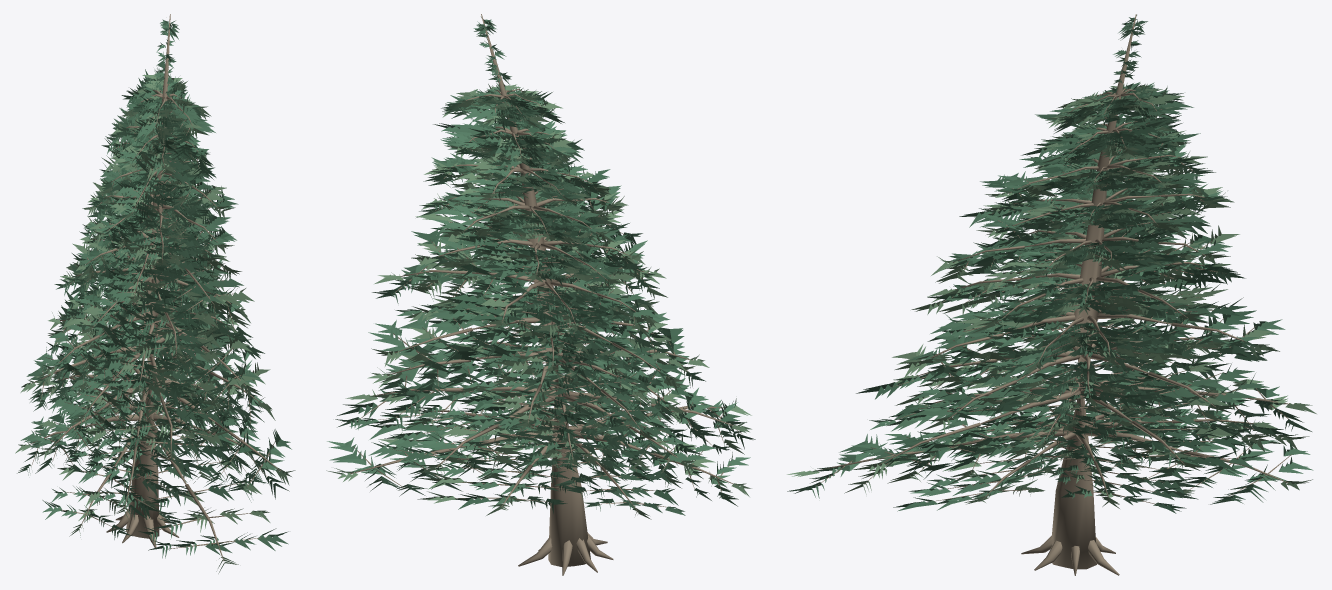
The model's file is cedar_1.glb.
3 views of the same model, side by side, from view 1: azimuth 30°, elevation 25°; view 2: azimuth 150°, elevation 25°; view 3: azimuth 270°, elevation 25° (orthographic). The views are drawn at different scales.
Visible parts, largest first — view 1: tree_conifer_ConiferLeaf, tree_conifer_ConiferLeafLight, tree_conifer_ConiferLeafDark, tree_conifer_ConiferBark; view 2: tree_conifer_ConiferLeaf, tree_conifer_ConiferLeafLight, tree_conifer_ConiferLeafDark, tree_conifer_ConiferBark; view 3: tree_conifer_ConiferLeaf, tree_conifer_ConiferLeafLight, tree_conifer_ConiferLeafDark, tree_conifer_ConiferBark.
Boxes of the visible parts, box(x1,y1,x2,y2) form: tree_conifer_ConiferLeaf: box(17, 19, 288, 555); tree_conifer_ConiferLeafLight: box(15, 69, 295, 573); tree_conifer_ConiferLeafDark: box(24, 77, 291, 558); tree_conifer_ConiferBark: box(27, 14, 280, 560); tree_conifer_ConiferLeaf: box(327, 17, 750, 515); tree_conifer_ConiferLeafLight: box(326, 83, 751, 519); tree_conifer_ConiferLeafDark: box(337, 85, 755, 513); tree_conifer_ConiferBark: box(350, 14, 742, 575); tree_conifer_ConiferLeaf: box(787, 15, 1313, 513); tree_conifer_ConiferLeafLight: box(787, 83, 1316, 508); tree_conifer_ConiferLeafDark: box(856, 83, 1303, 511); tree_conifer_ConiferBark: box(815, 14, 1293, 575).
Size of the model in its own units: 8.12 by 13.53 by 11.31.
